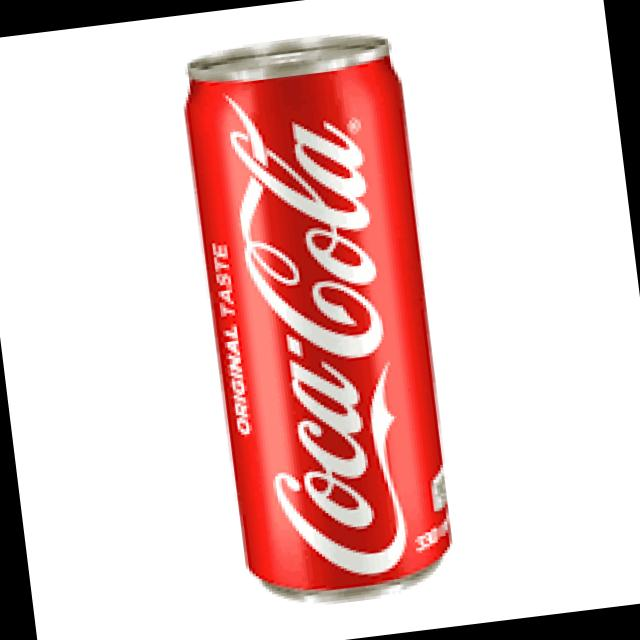cocacola: (166, 20, 477, 617)
